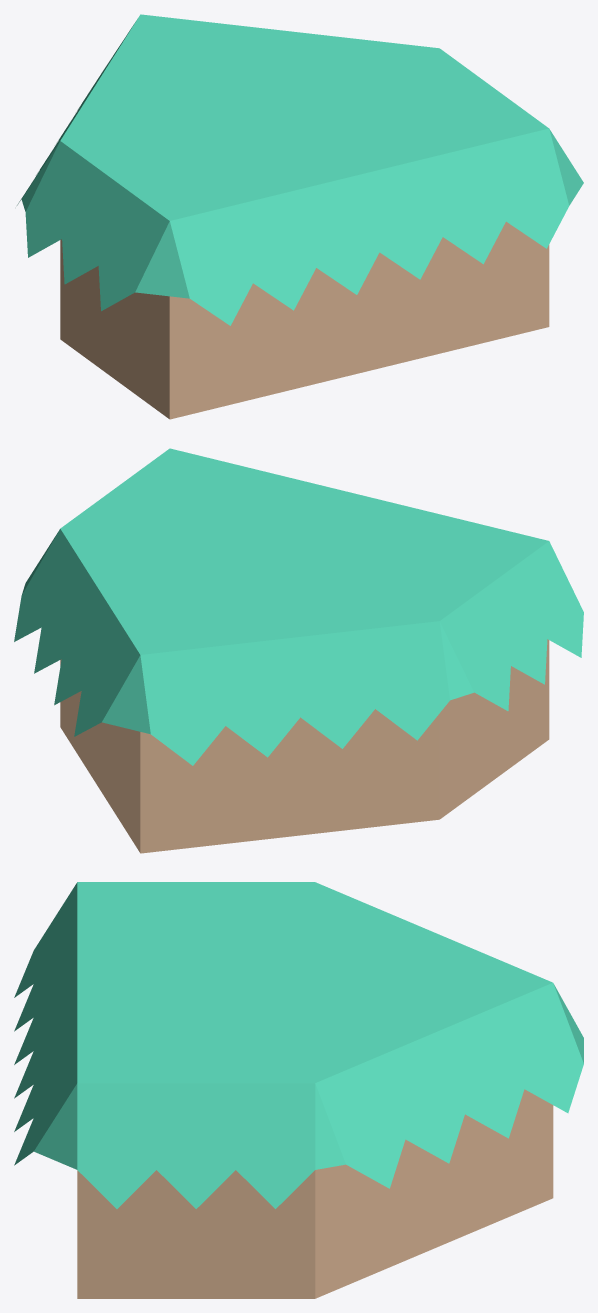
File: blockEnd.glb
3 views of the same model, one above another, from view 1: azimuth 30°, elevation 25°; view 2: azimuth 150°, elevation 25°; view 3: azimuth 270°, elevation 25° (orthographic). The views are drawn at different scales.
Parts seen in each view (by area): view 1: blockEnd(Clone); view 2: blockEnd(Clone); view 3: blockEnd(Clone).
Boxes of the visible parts, box(x1,y1,x2,y2) form: blockEnd(Clone): box(17, 14, 583, 419); blockEnd(Clone): box(14, 448, 583, 853); blockEnd(Clone): box(14, 882, 583, 1298).
Bounding box in the file's own units: 1.27 × 0.5 × 1.2.
